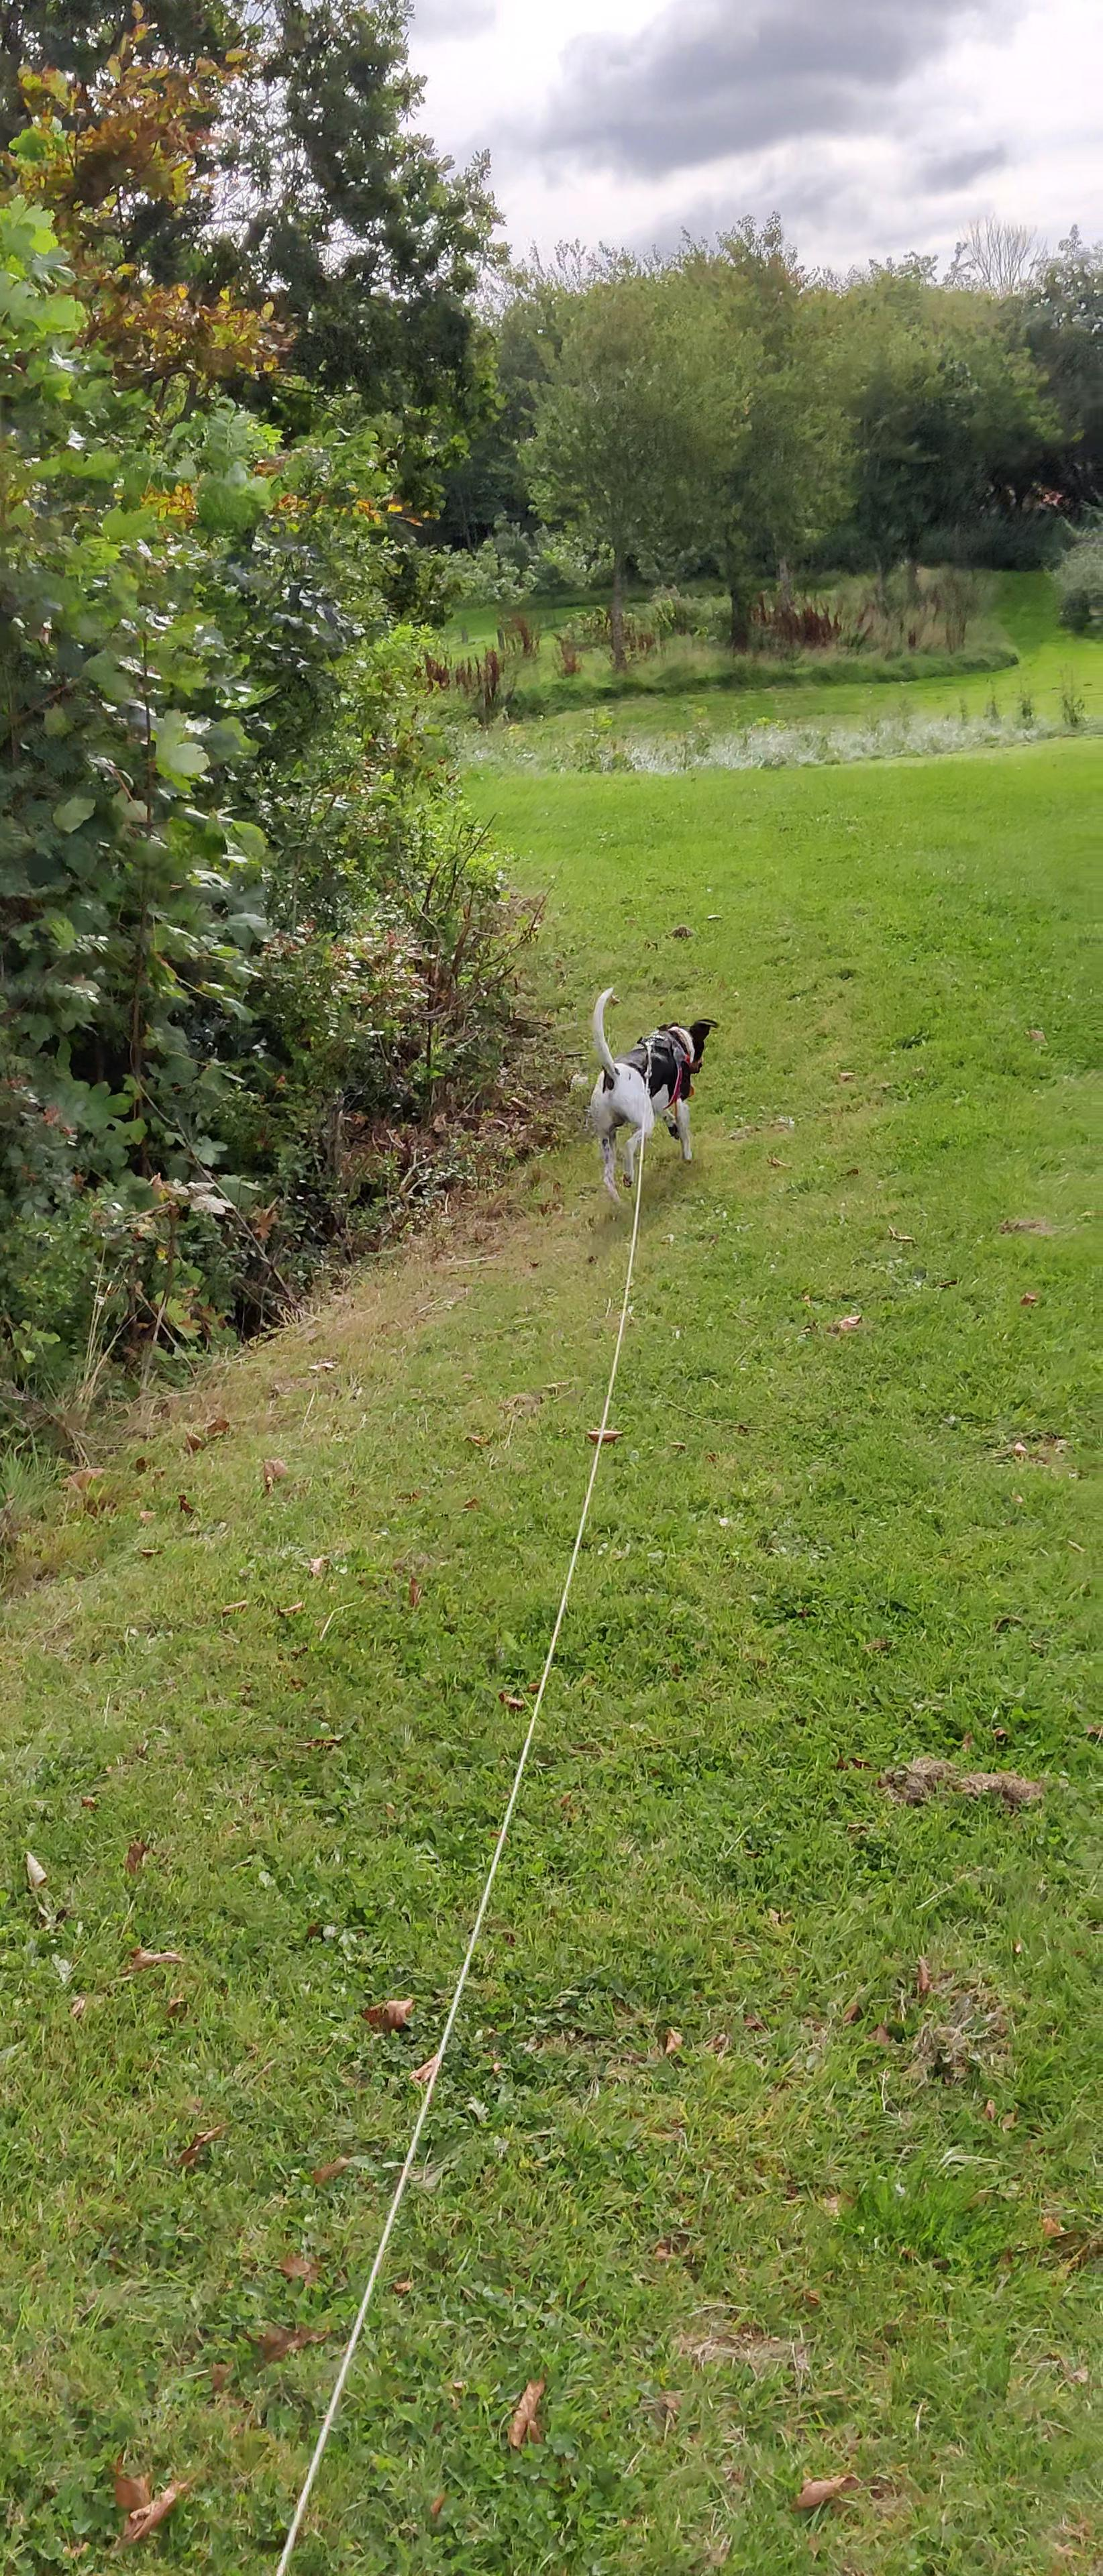Dog: (565, 966, 728, 1212)
